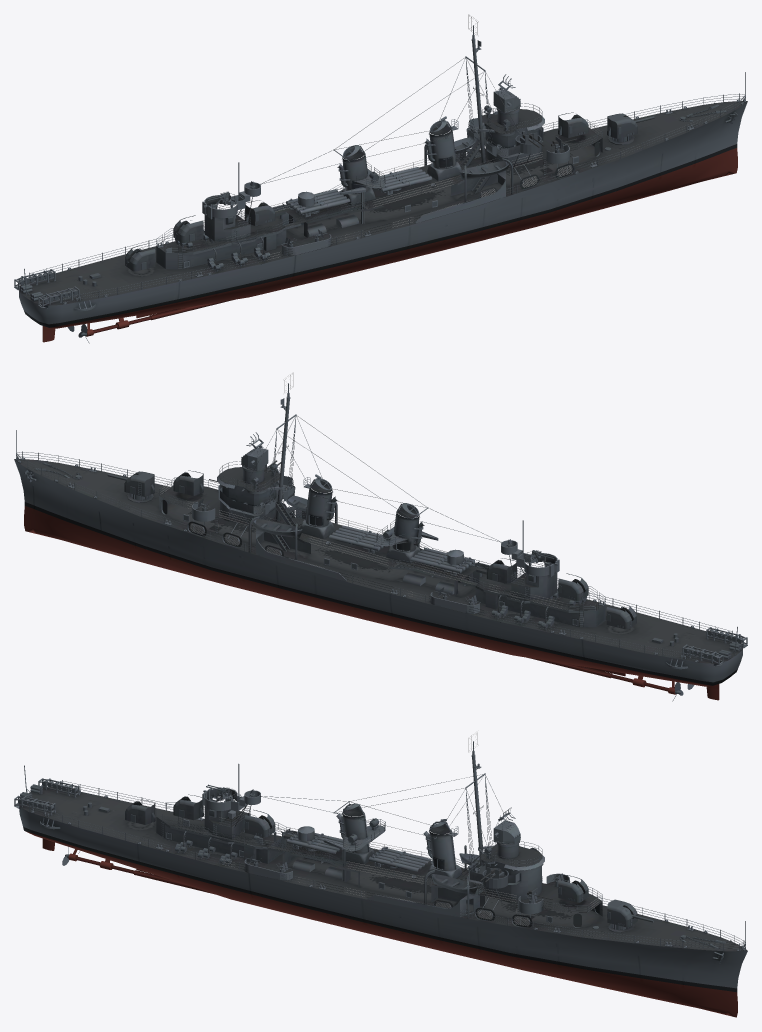
Rendered from fletcher-dd.glb.
3 renders of one model, top to bottom at view 1: azimuth 30°, elevation 25°; view 2: azimuth 150°, elevation 25°; view 3: azimuth 330°, elevation 25°, orthographic.
Visible parts, largest first — view 1: Plane; view 2: Plane; view 3: Plane.
Part boxes in pixels (x1,y1,x2,y2): Plane: [14, 25, 747, 343]; Plane: [14, 383, 747, 701]; Plane: [14, 741, 747, 1017].
Size of the model in its own units: 115 by 33.29 by 14.7.
Materials: 7 (5 with a texture image).
